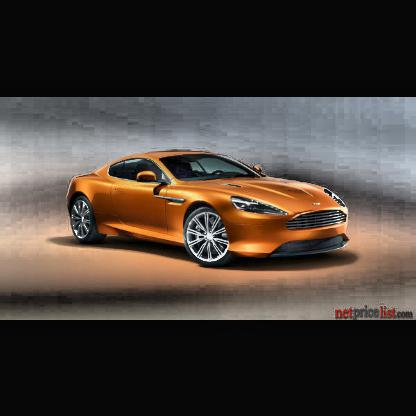Aston Martin Virage Coupe 2012: (65, 148, 354, 263)
